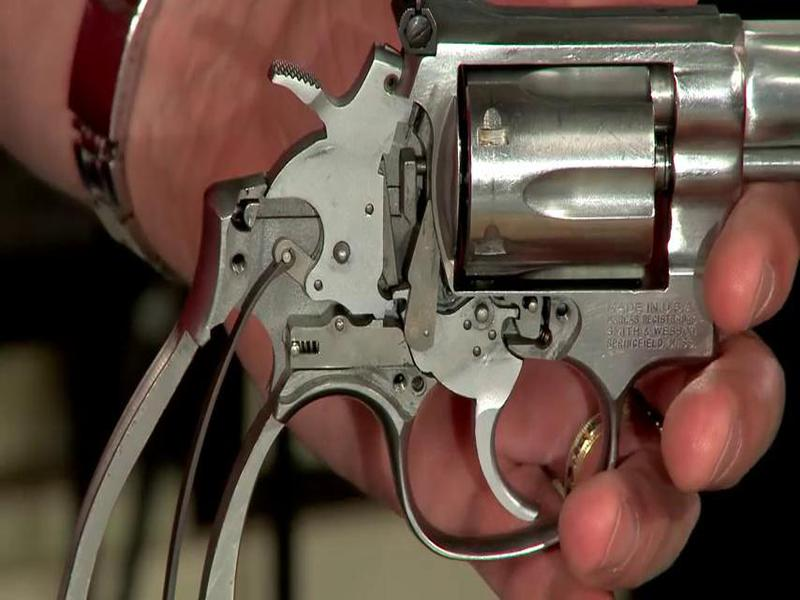Revolver: (106, 22, 800, 485)
